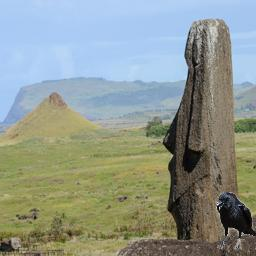Crow: (215, 192, 256, 250)
